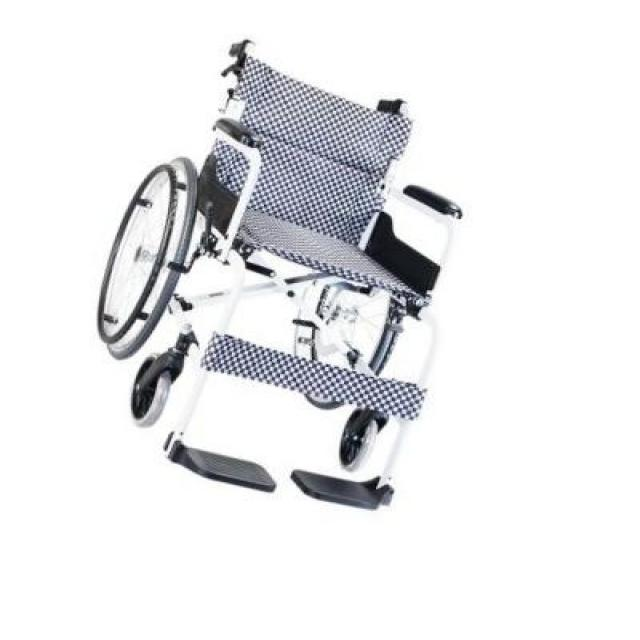wheelchair: (61, 21, 489, 536)
